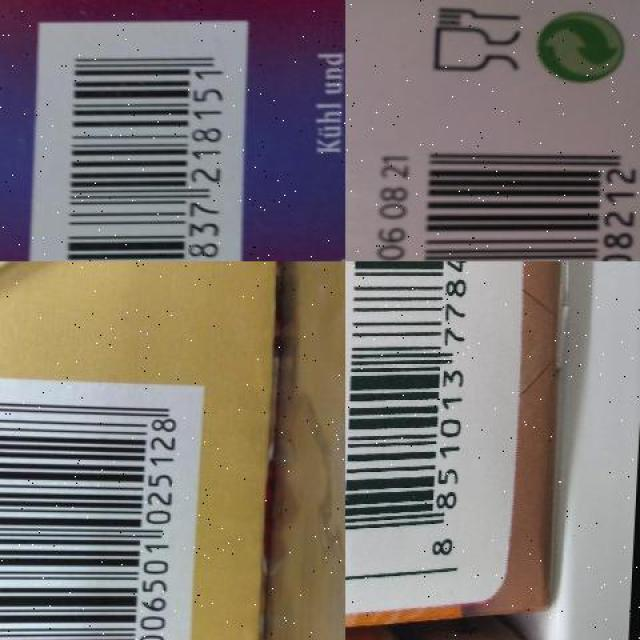Barcode: (21, 20, 260, 261), (0, 376, 208, 640), (345, 261, 480, 568), (402, 130, 640, 261)
